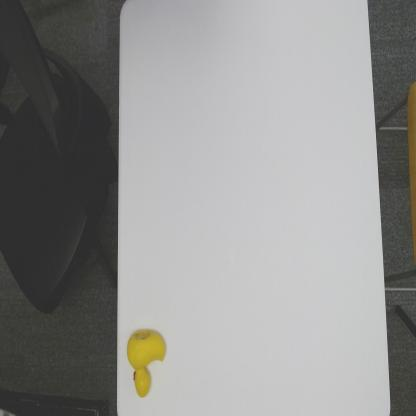Duck: (126, 326, 168, 400)
